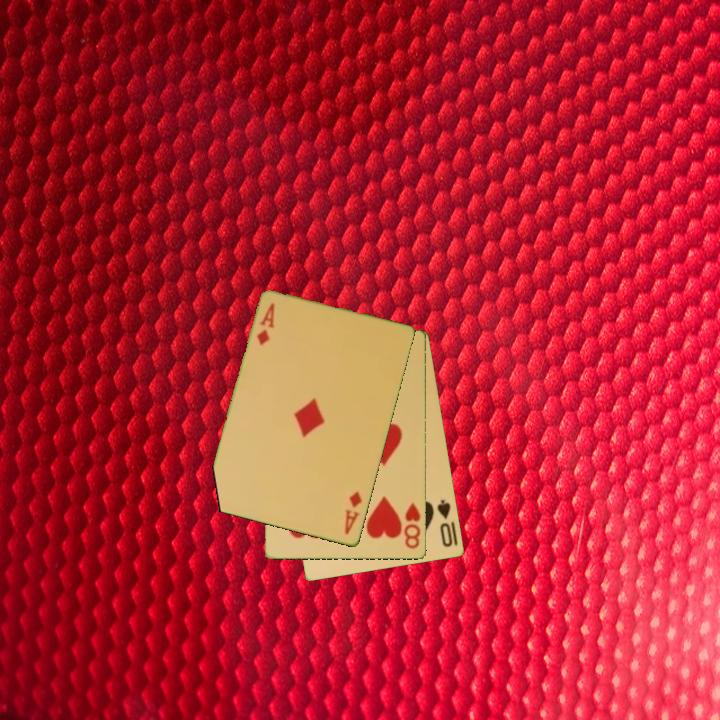10s: (434, 497, 456, 550)
8h: (401, 499, 423, 552)
Ad: (253, 300, 278, 349), (341, 488, 365, 538)
